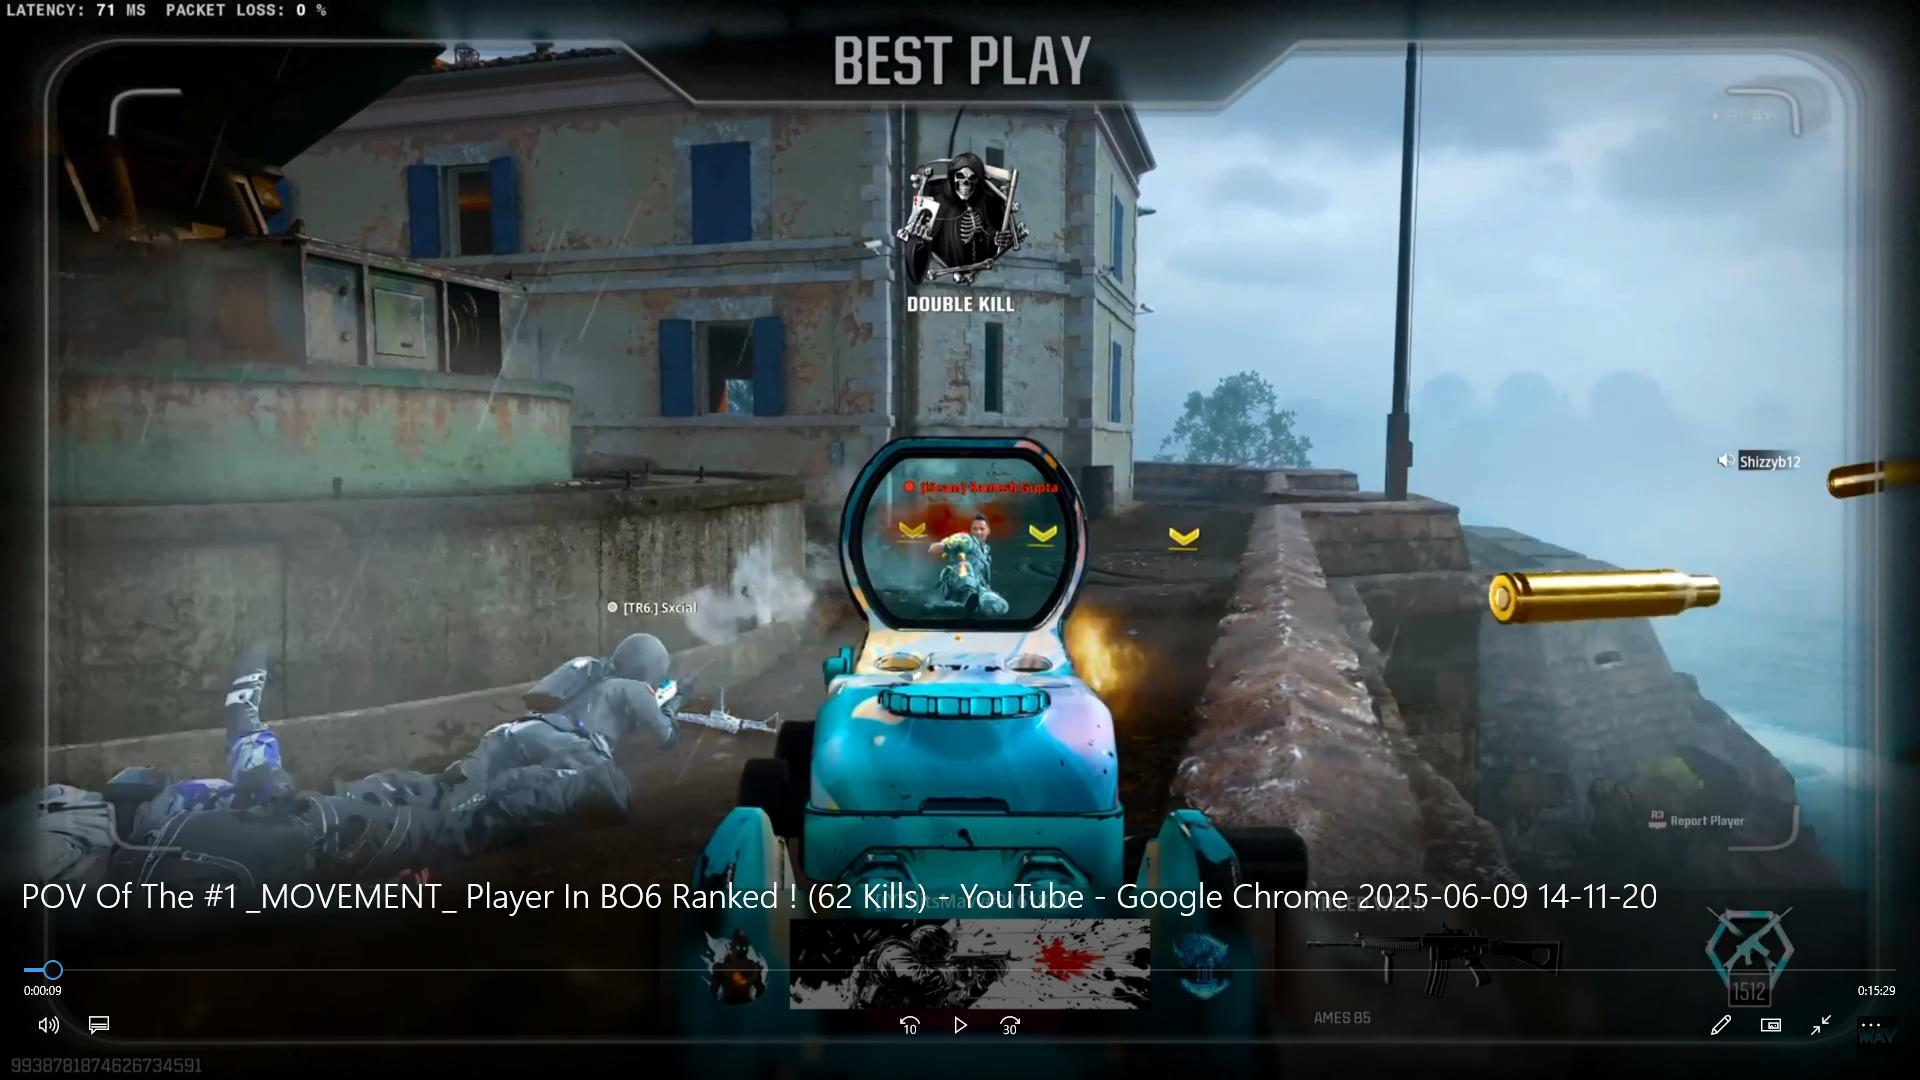Enemy: (936, 506, 1009, 620)
